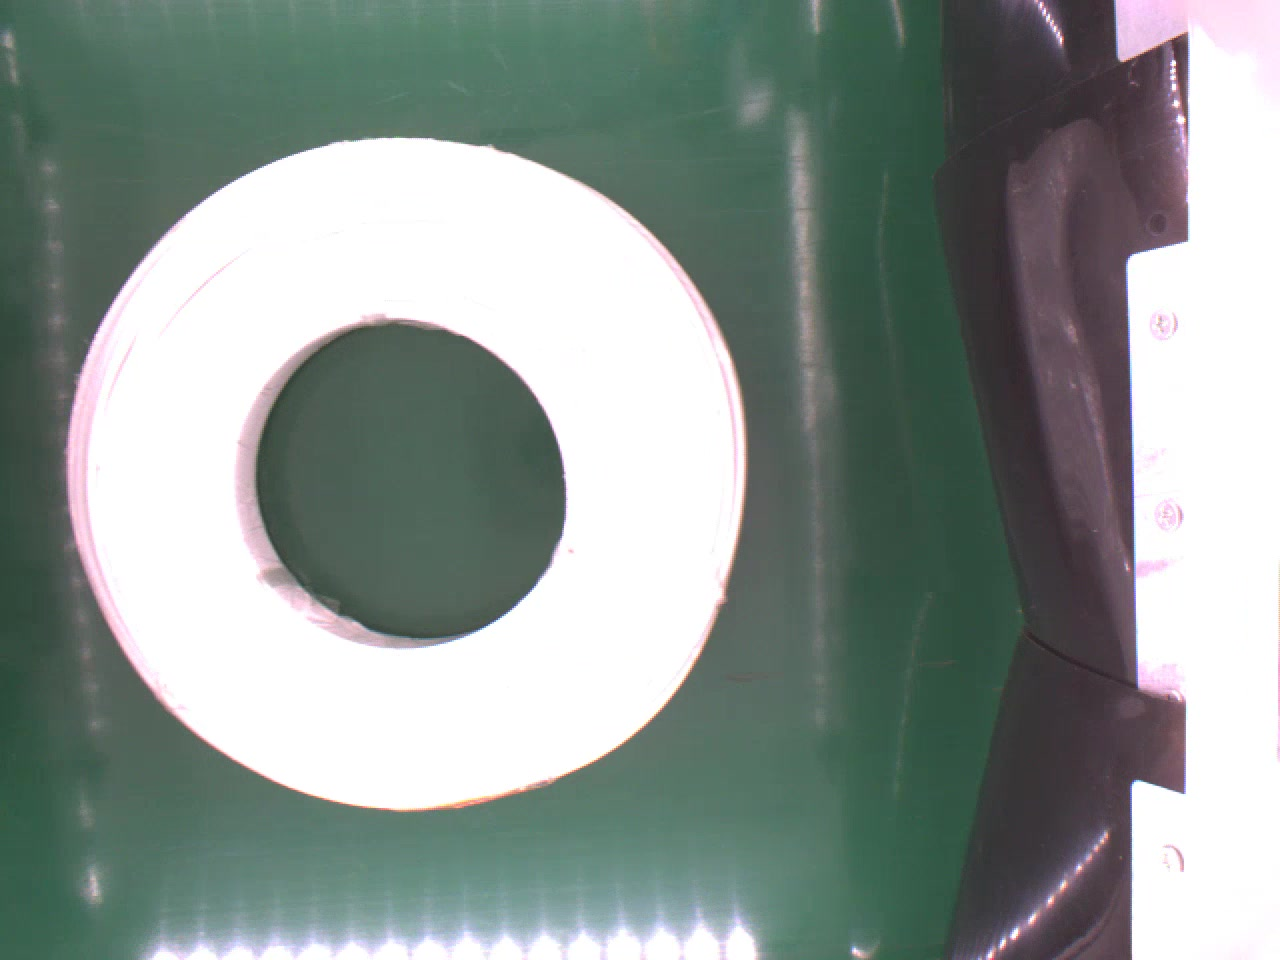white: (68, 132, 754, 819)
